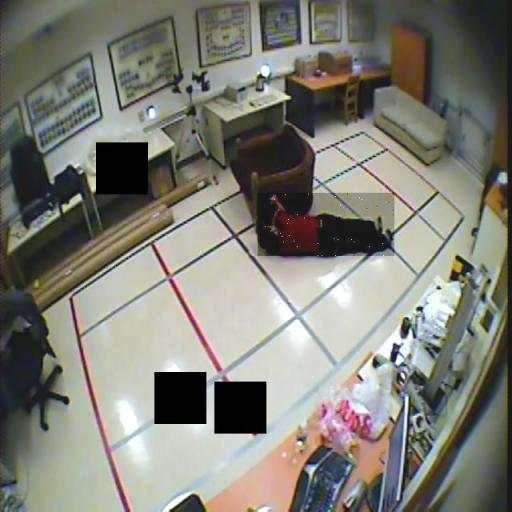Fall: (258, 193, 395, 256)
